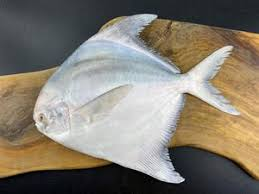Ikan Bawal: (32, 14, 240, 181)
